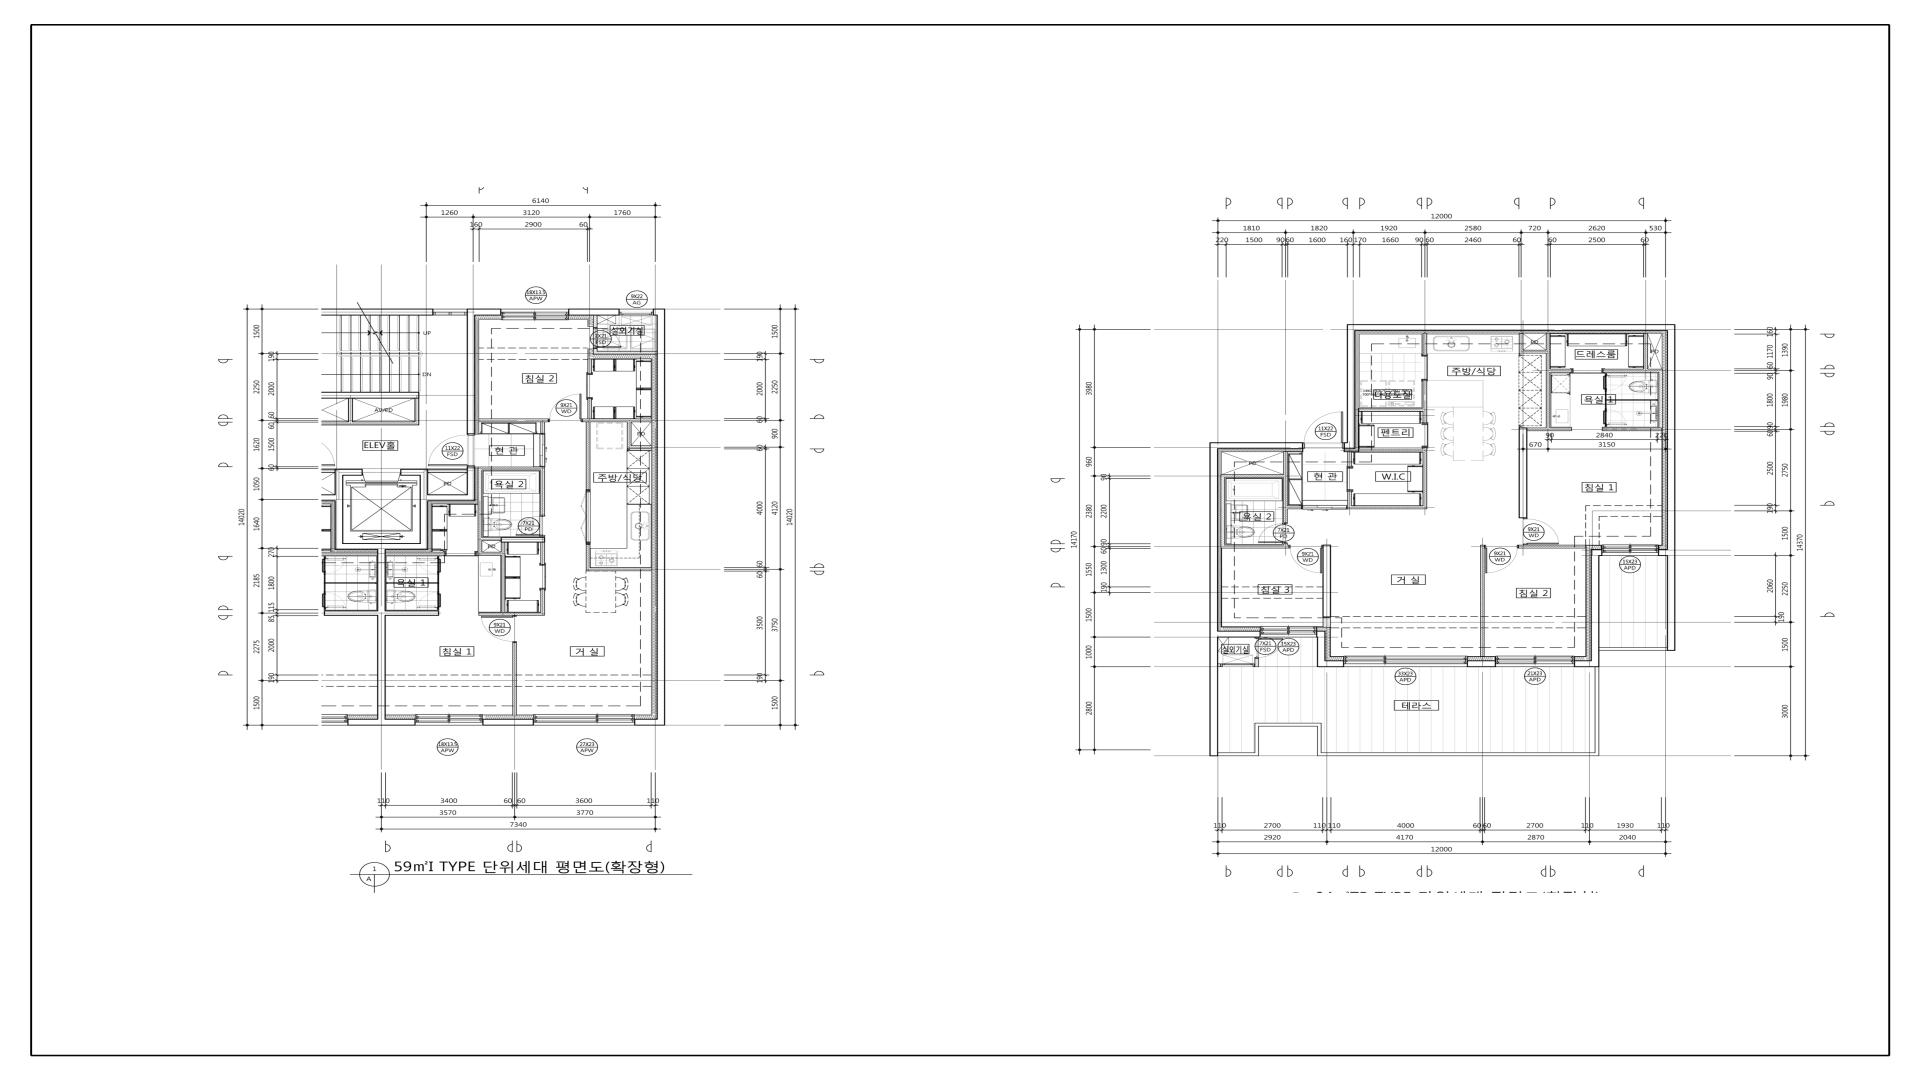door: (428, 434, 475, 467), (1304, 411, 1343, 444), (1523, 518, 1559, 545), (548, 394, 582, 422), (481, 616, 517, 642), (1485, 547, 1518, 574), (1290, 547, 1322, 574), (515, 515, 545, 537), (593, 327, 622, 348), (580, 489, 591, 544), (1257, 638, 1283, 657), (1258, 524, 1284, 543), (416, 592, 441, 610), (416, 556, 441, 574), (1603, 409, 1627, 425), (1603, 376, 1627, 391), (1302, 505, 1347, 510), (539, 563, 546, 591), (586, 372, 593, 400), (443, 551, 478, 556), (540, 433, 545, 467), (1421, 356, 1428, 380), (1346, 468, 1353, 490), (1422, 425, 1428, 448), (1572, 369, 1603, 373), (1571, 429, 1604, 430)
wall: (1344, 324, 1675, 556), (1209, 442, 1303, 667), (653, 309, 665, 726), (1574, 549, 1602, 667), (377, 550, 386, 719), (1316, 631, 1344, 667), (467, 316, 475, 434), (321, 308, 433, 316), (1518, 427, 1527, 518), (321, 392, 419, 399), (419, 476, 428, 550), (1322, 545, 1331, 617), (335, 476, 343, 550), (1480, 545, 1485, 656), (343, 543, 419, 550), (347, 719, 415, 726), (321, 421, 419, 425), (1546, 333, 1550, 428), (1283, 451, 1288, 524), (512, 642, 517, 715), (568, 309, 619, 316), (482, 719, 533, 726), (500, 543, 505, 612), (478, 467, 482, 552), (1220, 478, 1225, 545), (428, 494, 475, 501), (1347, 505, 1423, 509), (1658, 372, 1663, 428), (1221, 544, 1289, 548), (478, 612, 545, 616), (586, 422, 590, 489), (386, 611, 439, 616), (501, 537, 545, 543), (586, 567, 652, 571), (1358, 408, 1423, 412), (1359, 449, 1423, 453), (1220, 474, 1283, 478), (1423, 448, 1427, 509), (597, 351, 657, 355), (467, 309, 501, 316), (540, 470, 545, 515), (467, 467, 475, 495), (478, 419, 548, 422), (582, 419, 651, 422), (1518, 545, 1586, 548), (335, 469, 363, 476), (400, 469, 428, 476), (482, 467, 545, 470), (1643, 333, 1648, 369), (1423, 380, 1427, 425), (1603, 369, 1663, 372), (1604, 428, 1662, 431), (1467, 661, 1496, 667), (386, 552, 443, 555), (634, 719, 657, 726), (428, 469, 467, 473), (1527, 428, 1571, 431), (414, 398, 419, 421), (586, 544, 591, 567), (348, 399, 353, 421), (627, 422, 631, 449), (1607, 399, 1658, 401), (386, 582, 437, 584), (587, 400, 592, 419), (1423, 333, 1427, 356), (478, 552, 501, 556), (1519, 333, 1524, 350), (541, 591, 545, 612), (631, 445, 652, 449), (1519, 350, 1546, 353), (1347, 490, 1352, 506), (1347, 452, 1352, 468), (1323, 617, 1331, 627), (541, 543, 545, 563), (482, 537, 501, 541), (1550, 369, 1572, 372), (321, 469, 335, 473), (540, 422, 545, 433), (593, 316, 598, 327), (588, 359, 592, 372), (1254, 657, 1259, 667), (1288, 506, 1302, 509), (1605, 391, 1607, 410), (437, 574, 439, 592), (593, 348, 597, 355), (1218, 664, 1221, 667)
window: (1344, 656, 1467, 667), (533, 714, 634, 725), (1496, 656, 1574, 667), (501, 309, 568, 320), (415, 714, 482, 725), (1602, 544, 1658, 556), (1260, 626, 1316, 637), (619, 309, 653, 315), (433, 309, 467, 315), (1221, 664, 1254, 667)
